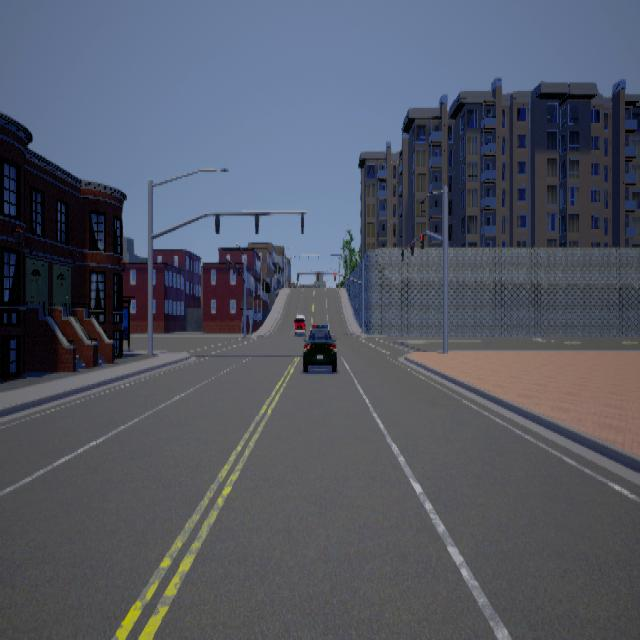vehicle: (300, 313, 336, 371), (291, 312, 306, 338)
